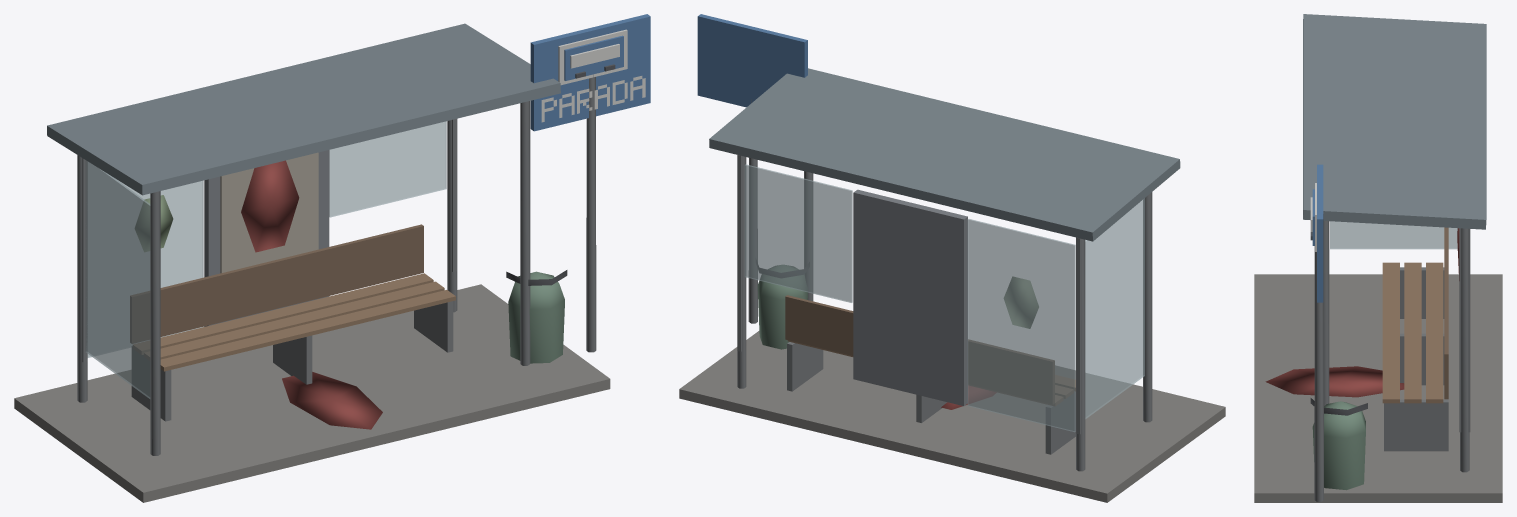
Rendered from ponto_onibus.glb.
3 renders of one model, left to right at view 1: azimuth 30°, elevation 25°; view 2: azimuth 150°, elevation 25°; view 3: azimuth 270°, elevation 25°, orthographic. The views are drawn at different scales.
Parts seen in each view (by area): view 1: ponto_onibus, ponto_vidros, ponto_placa; view 2: ponto_onibus, ponto_vidros, ponto_placa; view 3: ponto_onibus, ponto_vidros, ponto_placa.
Boxes of the visible parts, x1,y1,x2,y2 form: ponto_onibus: (14,23,610,502); ponto_vidros: (85,121,446,398); ponto_placa: (530,14,650,131); ponto_onibus: (679,68,1225,502); ponto_vidros: (744,164,1144,432); ponto_placa: (697,14,807,107); ponto_onibus: (1254,14,1502,502); ponto_vidros: (1330,221,1457,249); ponto_placa: (1310,164,1323,302).
Bounding box in the file's own units: 5.55 × 3.25 × 2.3.
